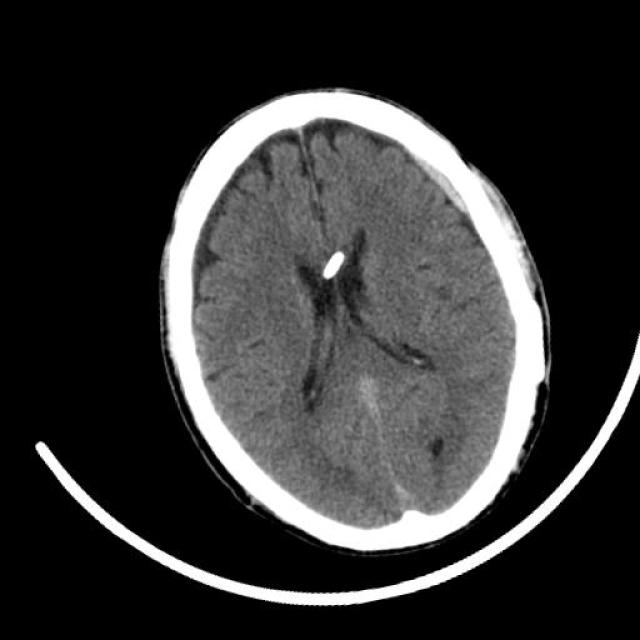Subdural: (381, 115, 502, 276)
